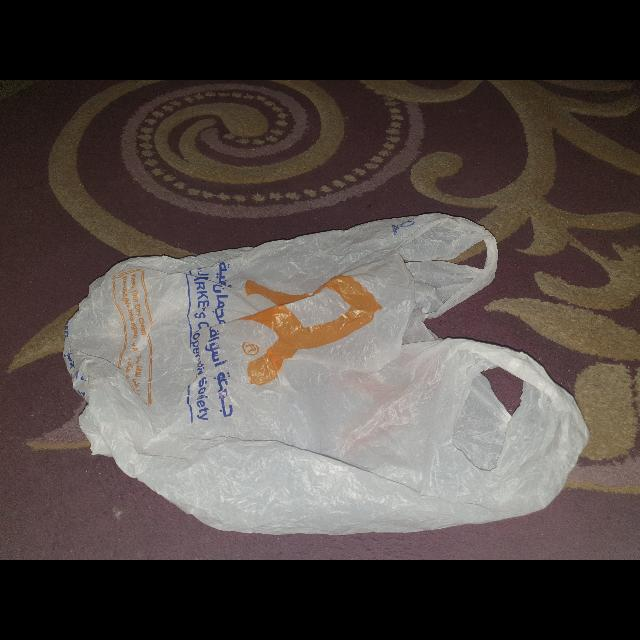plastic_bag: (54, 208, 596, 542)
